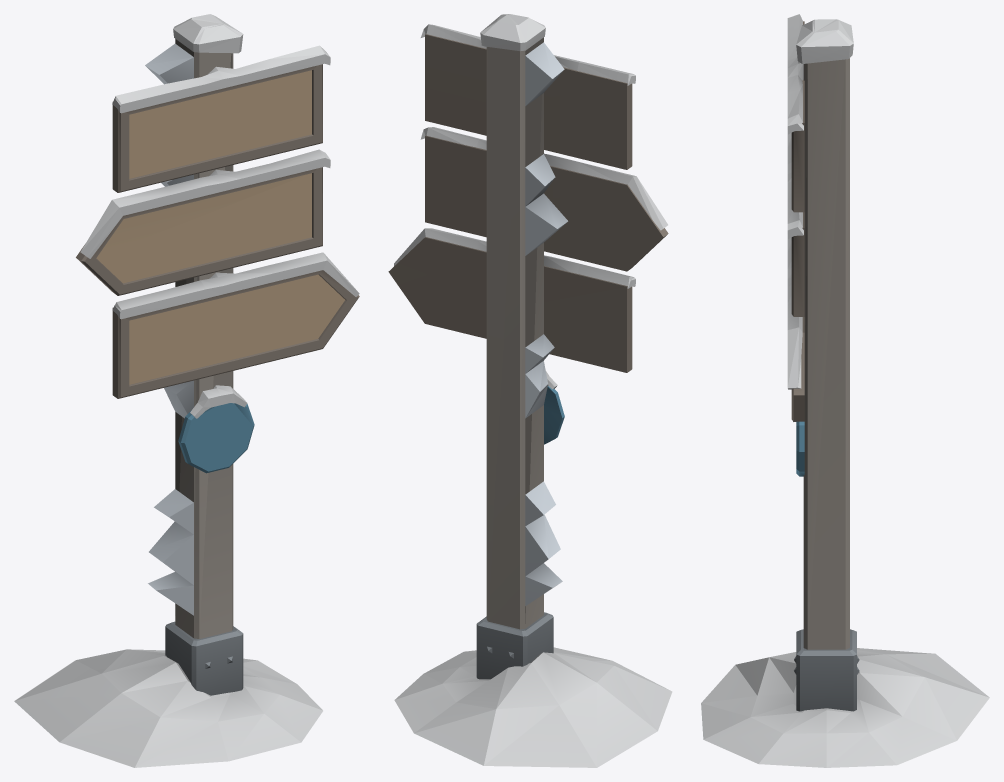
The model's file is wayfinder.glb.
3 renders of one model, left to right at view 1: azimuth 30°, elevation 25°; view 2: azimuth 150°, elevation 25°; view 3: azimuth 270°, elevation 25°, orthographic. The views are drawn at different scales.
Parts seen in each view (by area): view 1: wayfinder; view 2: wayfinder; view 3: wayfinder.
Boxes of the visible parts, box(x1,y1,x2,y2) form: wayfinder: box(14, 14, 359, 767); wayfinder: box(388, 14, 672, 767); wayfinder: box(701, 14, 989, 767).
Size of the model in its own units: 1.16 by 2.67 by 1.
